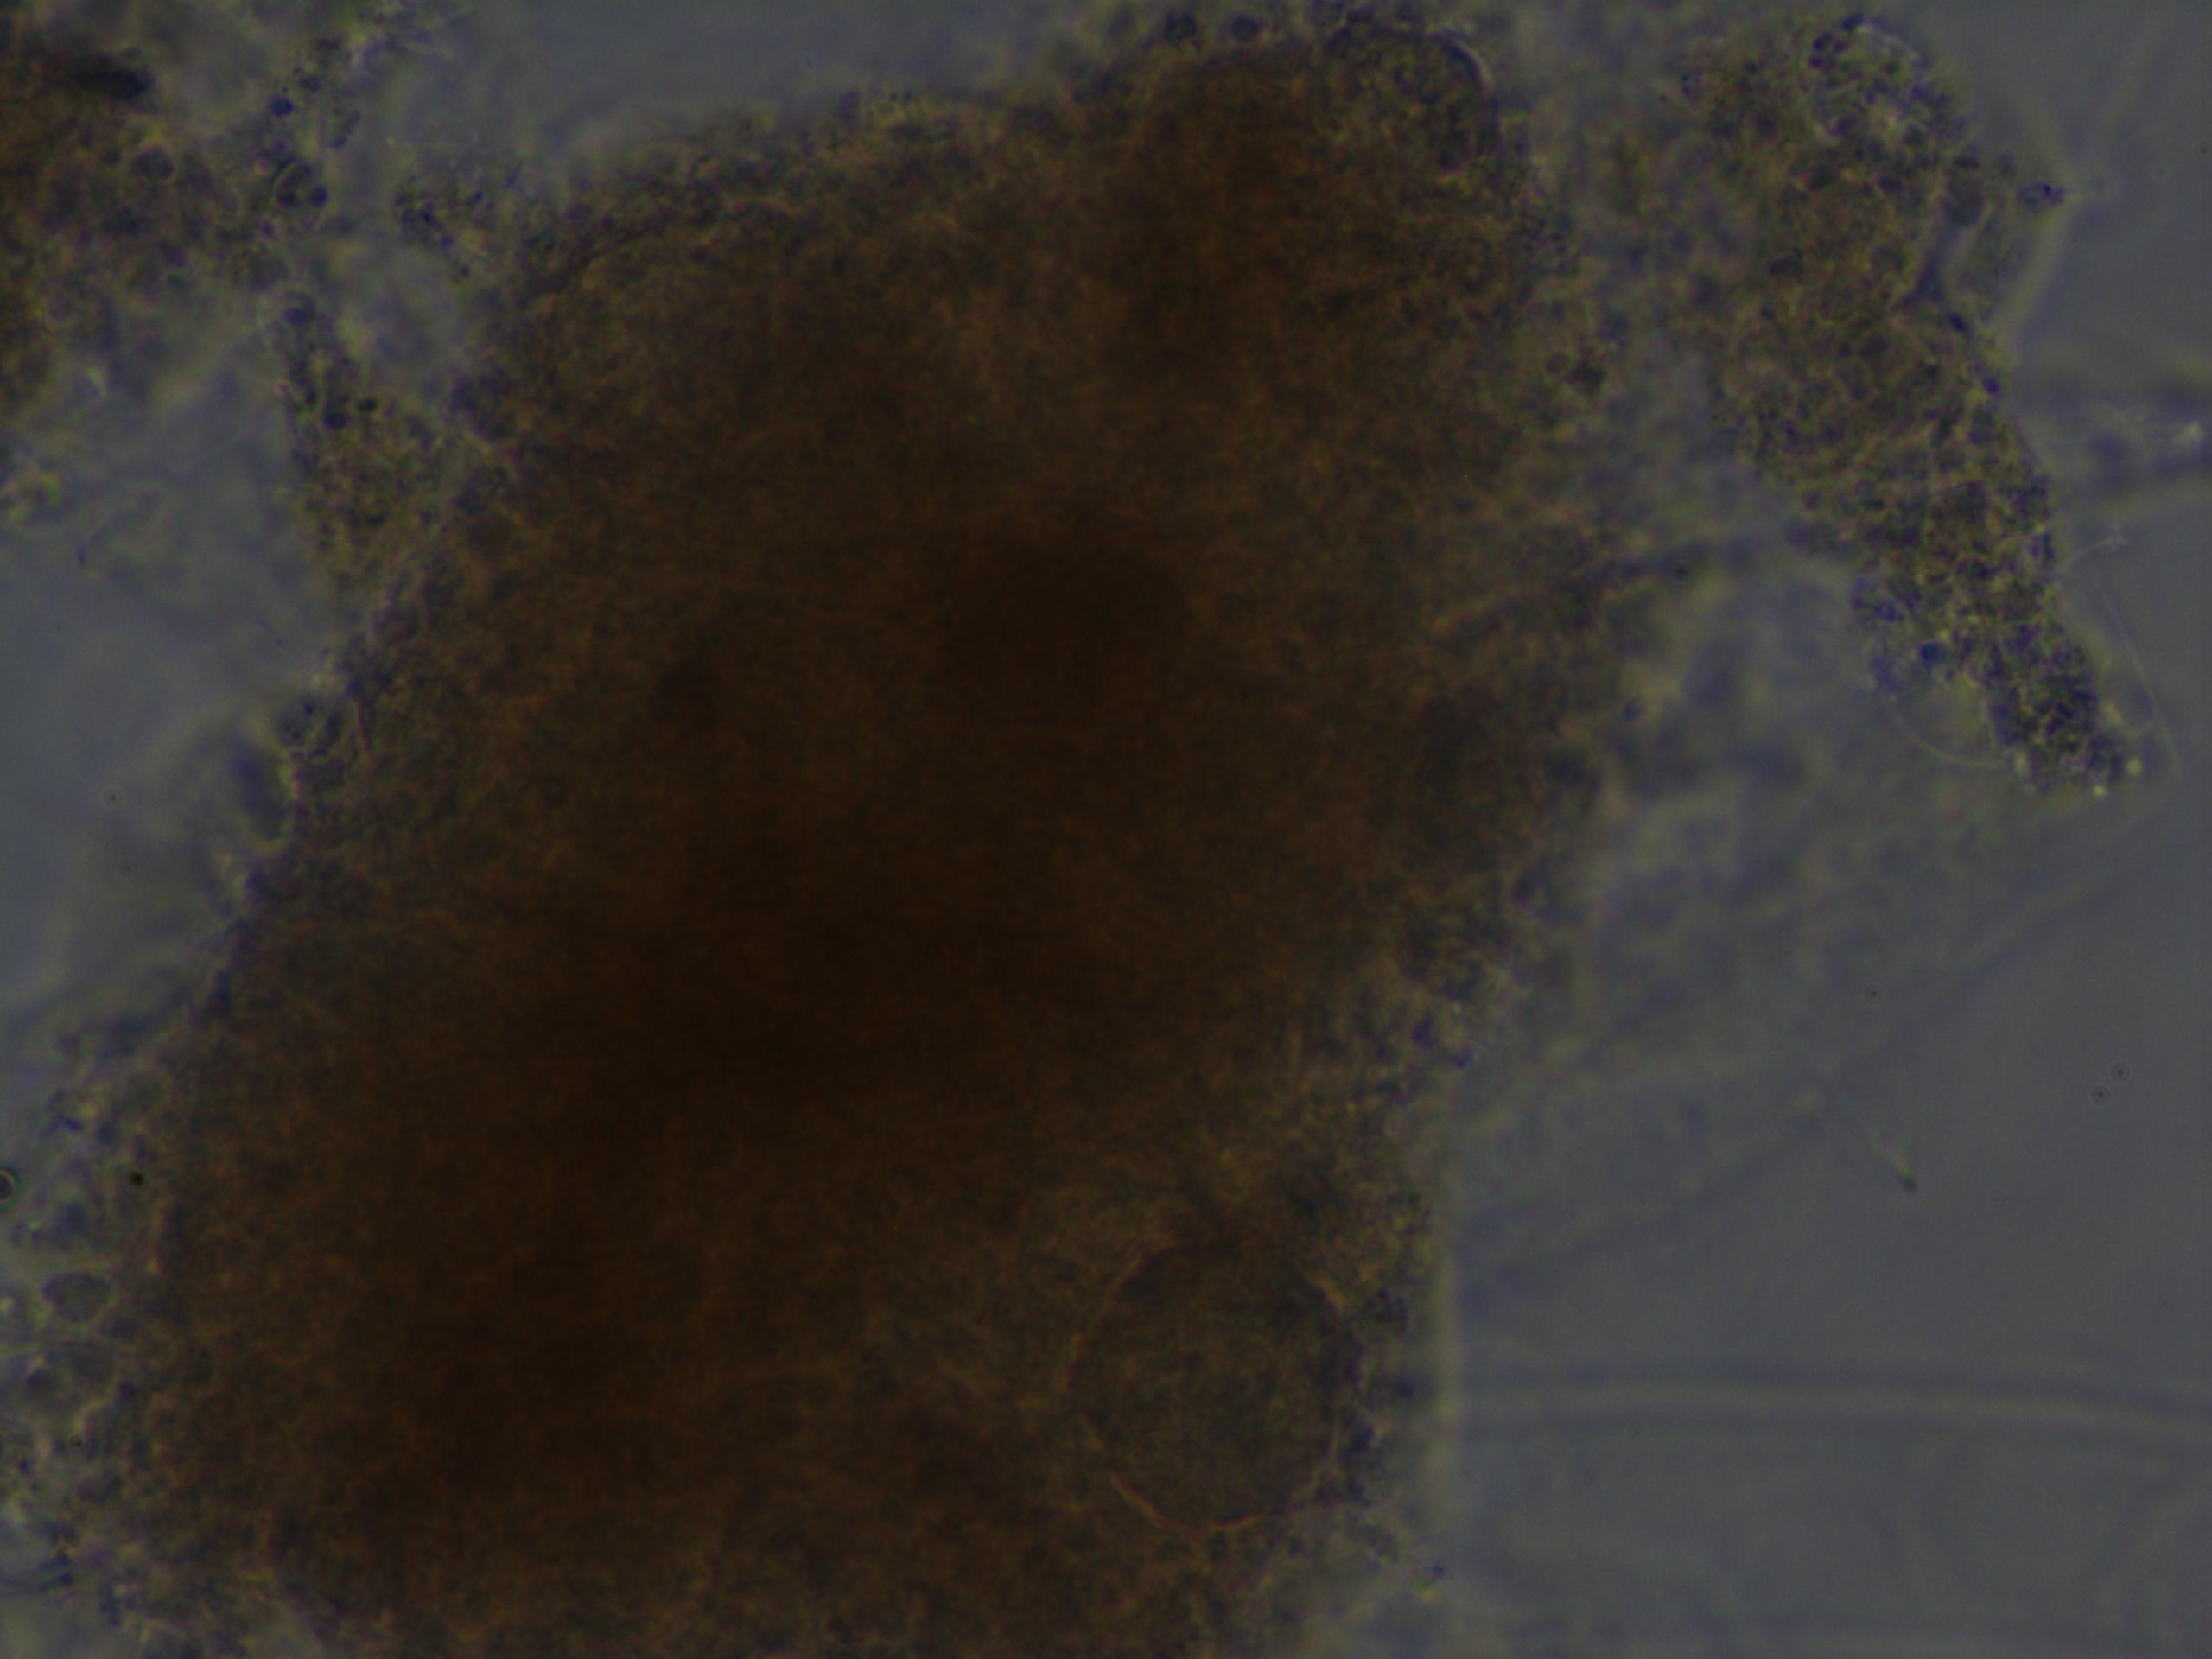filament: (1545, 415, 2212, 640), (1423, 1349, 2212, 1455)
spherical_floc: (19, 0, 1648, 1656)
